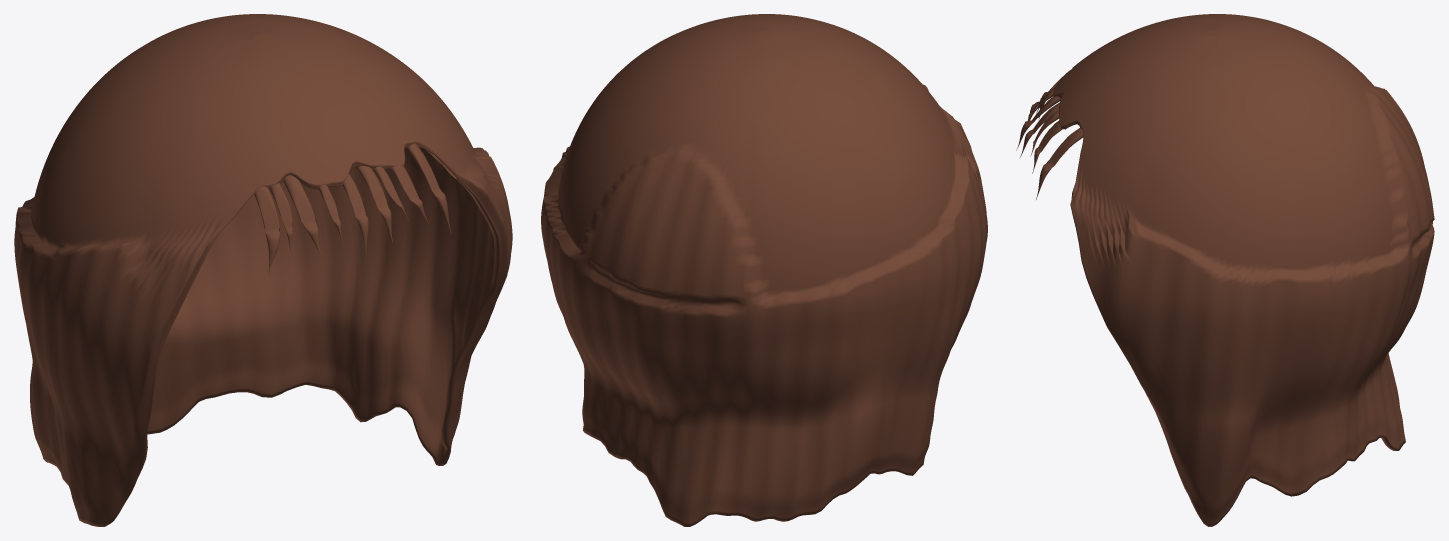
File: side-sweep-cap.glb
3 renders of one model, left to right at view 1: azimuth 30°, elevation 25°; view 2: azimuth 150°, elevation 25°; view 3: azimuth 270°, elevation 25°, orthographic. The views are drawn at different scales.
Parts seen in each view (by area): view 1: Hair / layered lob, Fringe / tapered lock 01, Fringe / tapered lock 03, Fringe / tapered lock 06, Fringe / tapered lock 09, Fringe / tapered lock 05, Fringe / tapered lock 02, Fringe / tapered lock 08; view 2: Hair / layered lob; view 3: Hair / layered lob, Fringe / tapered lock 09.
Part boxes in pixels (bbox=[...]): Hair / layered lob: bbox=[14, 14, 512, 526]; Fringe / tapered lock 01: bbox=[254, 186, 279, 275]; Fringe / tapered lock 03: bbox=[283, 175, 321, 257]; Fringe / tapered lock 06: bbox=[356, 166, 392, 242]; Fringe / tapered lock 09: bbox=[406, 143, 451, 233]; Fringe / tapered lock 05: bbox=[342, 173, 368, 256]; Fringe / tapered lock 02: bbox=[270, 183, 292, 254]; Fringe / tapered lock 08: bbox=[391, 165, 428, 223]; Hair / layered lob: bbox=[541, 14, 987, 526]; Hair / layered lob: bbox=[1053, 14, 1434, 526]; Fringe / tapered lock 09: bbox=[1036, 127, 1083, 199].
Bounding box in the file's own units: 0.8388 × 0.8705 × 0.79.
